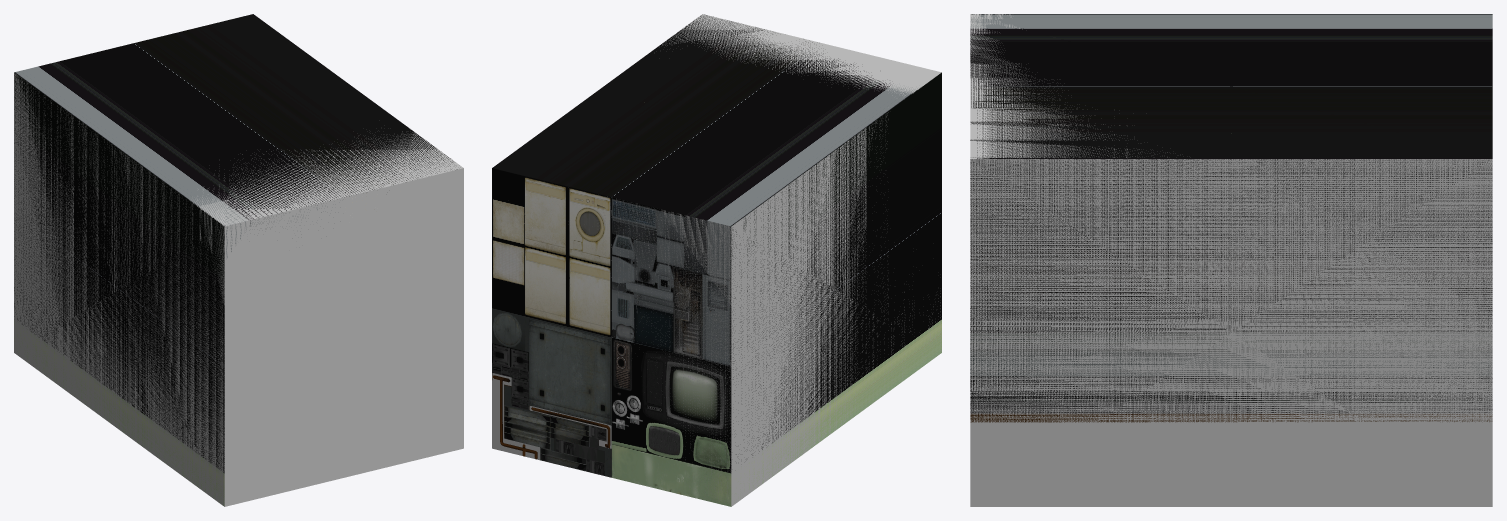
The model's file is television.DAE.
3 views of the same model, side by side, from view 1: azimuth 30°, elevation 25°; view 2: azimuth 150°, elevation 25°; view 3: azimuth 270°, elevation 25° (orthographic). The views are drawn at different scales.
Visible parts, largest first — view 1: bounds, colbox-1; view 2: colbox-1, bounds; view 3: bounds, colbox-1.
Boxes of the visible parts, x1,y1,x2,y2 form: bounds: (14,72,463,506); colbox-1: (14,14,457,505); colbox-1: (492,14,941,506); bounds: (492,14,941,506); bounds: (970,14,1492,506); colbox-1: (970,14,1492,422).
Size of the model in its own units: 44.39 by 67.65 by 49.72.
